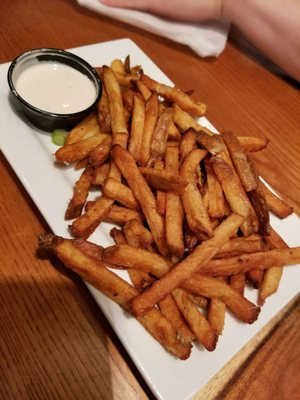sushi: (7, 48, 101, 133)
